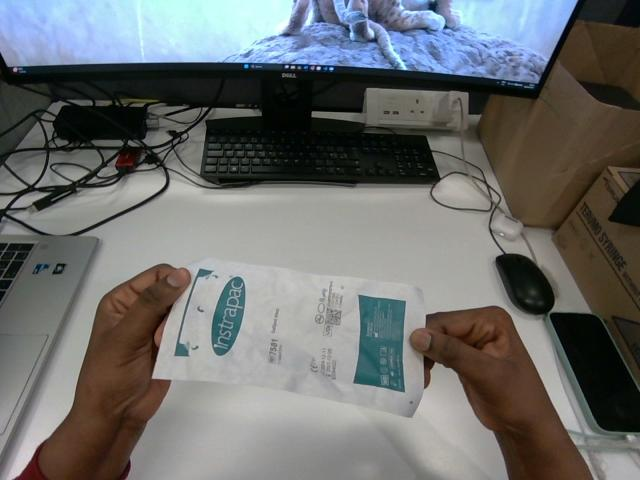gallipot: (154, 259, 425, 416)
